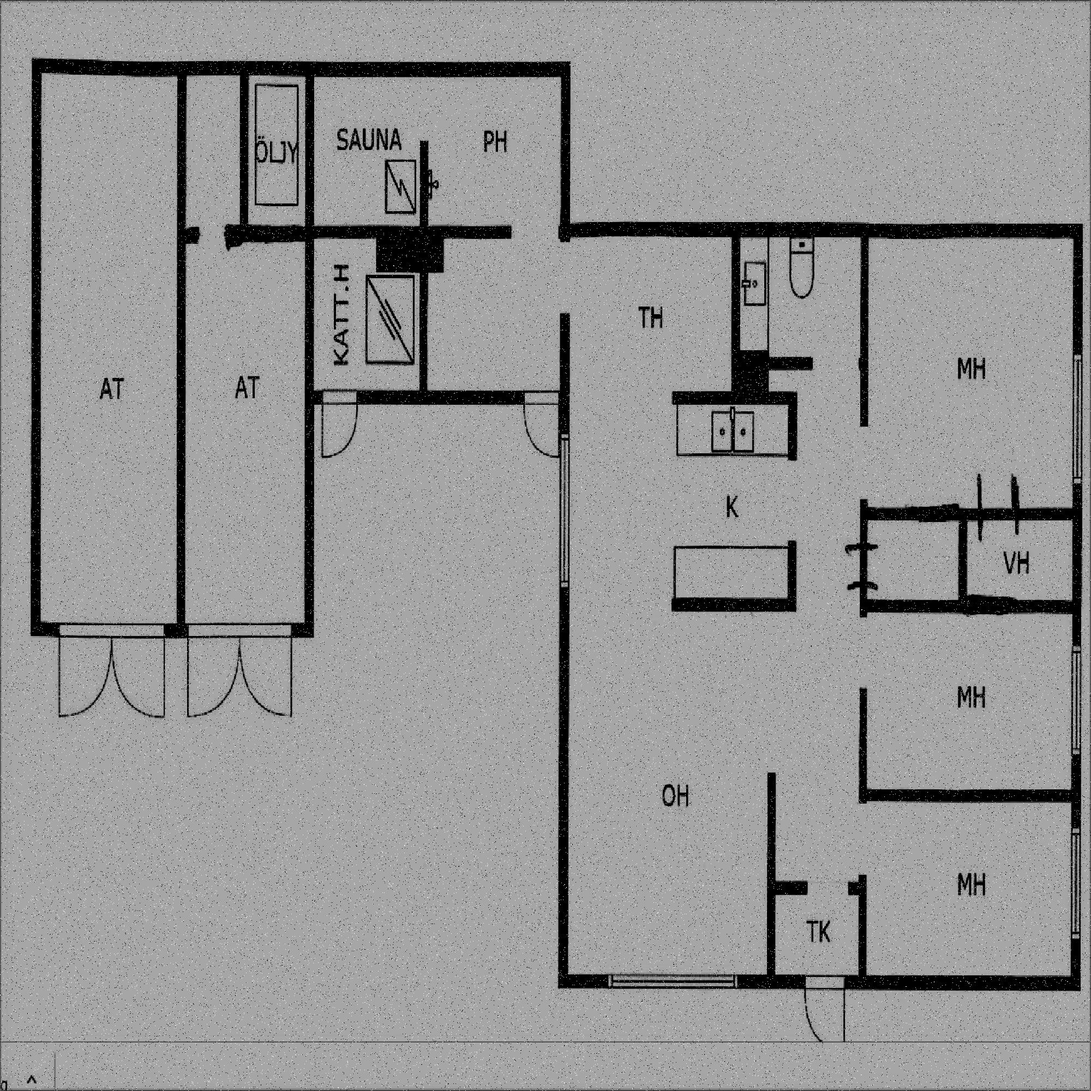wall: (32, 62, 569, 75), (1072, 224, 1081, 987), (561, 974, 1081, 986), (561, 224, 1081, 236), (859, 224, 867, 987), (561, 391, 569, 987), (32, 63, 40, 636), (177, 63, 185, 636), (32, 623, 313, 636), (305, 391, 569, 404), (225, 226, 561, 236), (859, 599, 1081, 612), (305, 63, 313, 391), (376, 235, 443, 271), (859, 509, 1081, 519), (859, 790, 1081, 800), (419, 141, 427, 404), (305, 391, 313, 636), (732, 350, 768, 392), (673, 392, 796, 404), (732, 224, 740, 404), (561, 63, 569, 236), (672, 598, 796, 609), (768, 773, 774, 987), (561, 235, 569, 391), (240, 63, 247, 236), (768, 882, 867, 893), (959, 508, 966, 611), (788, 541, 796, 609), (788, 392, 796, 459), (768, 357, 812, 369), (177, 226, 198, 236)
